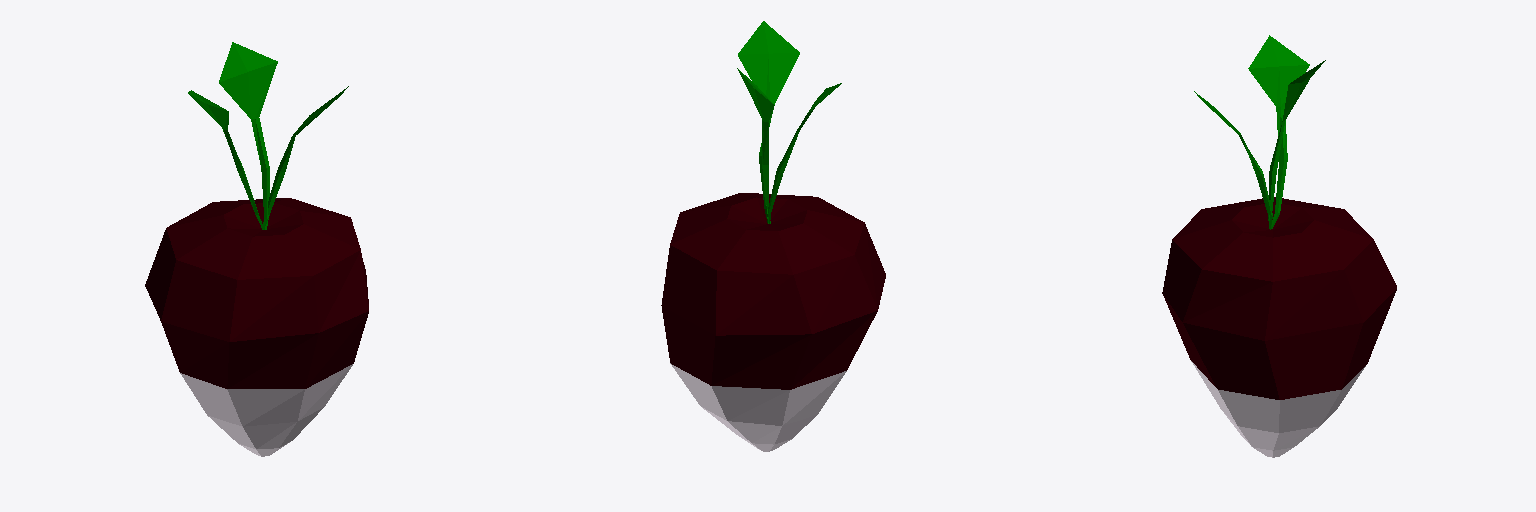
File: Raddish.obj
3 views of the same model, side by side, from view 1: azimuth 30°, elevation 25°; view 2: azimuth 150°, elevation 25°; view 3: azimuth 270°, elevation 25° (orthographic).
Visible parts, largest first — view 1: pCone1, pCone8, pCone9, pCone10; view 2: pCone1, pCone10, pCone8, pCone9; view 3: pCone1, pCone9, pCone8, pCone10.
Boxes of the visible parts, x1,y1,x2,y2 form: pCone1: [145, 198, 368, 456]; pCone8: [219, 42, 277, 229]; pCone9: [188, 90, 262, 227]; pCone10: [265, 86, 348, 229]; pCone1: [661, 193, 885, 451]; pCone10: [738, 21, 799, 222]; pCone8: [737, 68, 774, 223]; pCone9: [768, 83, 841, 223]; pCone1: [1162, 197, 1396, 457]; pCone9: [1248, 35, 1309, 228]; pCone8: [1268, 60, 1325, 228]; pCone10: [1194, 91, 1272, 229].
Size of the model in its own units: 0.4888 by 0.8967 by 0.4855.